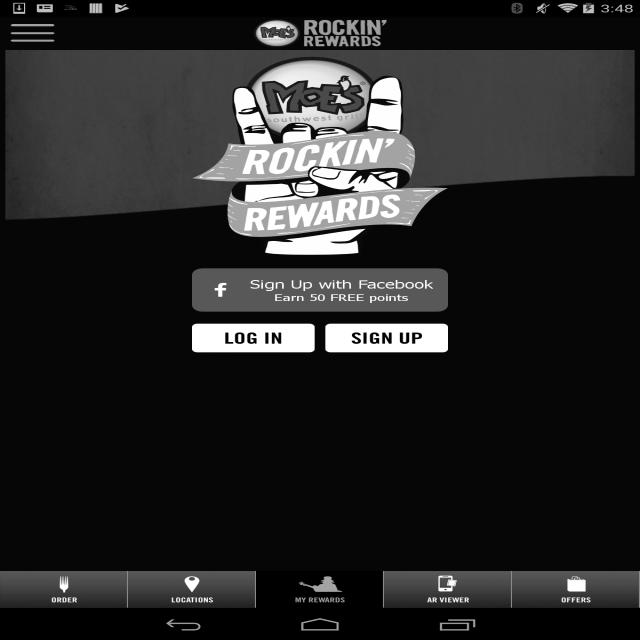Button: (185, 265, 464, 314), (185, 321, 318, 356), (324, 322, 455, 355)
ImageButton: (10, 20, 58, 44)
ImageView: (216, 60, 419, 252), (246, 18, 293, 46), (299, 571, 347, 590), (52, 572, 81, 594), (431, 575, 459, 592)
TextView: (304, 17, 386, 50), (168, 595, 216, 603), (558, 596, 596, 604)
